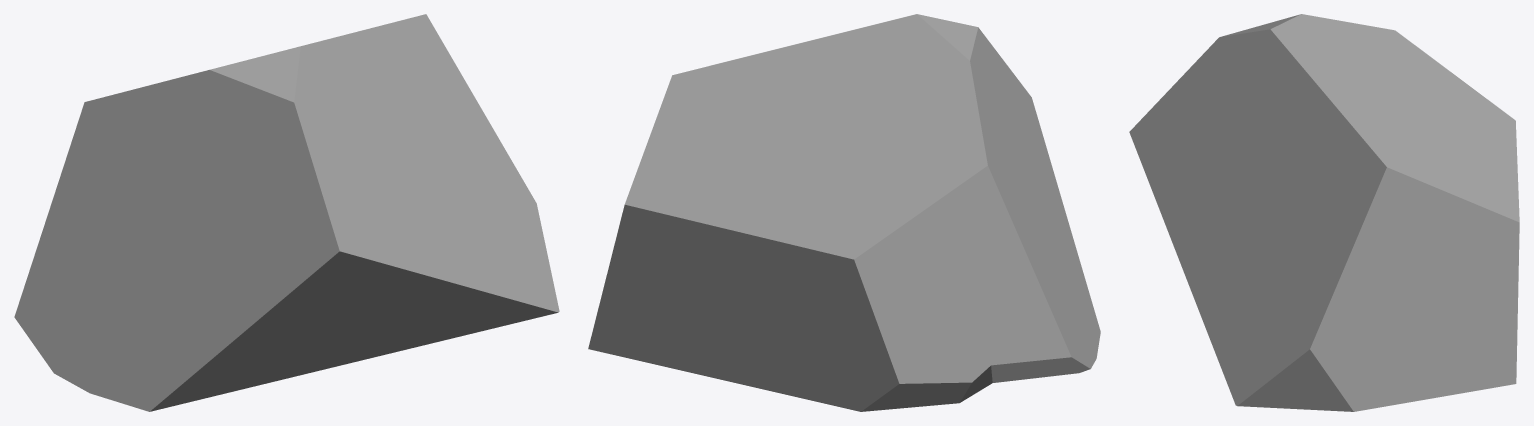
Rendered from HardRock_27.fbx.
3 renders of one model, left to right at view 1: azimuth 30°, elevation 25°; view 2: azimuth 150°, elevation 25°; view 3: azimuth 270°, elevation 25°, orthographic. The views are drawn at different scales.
Visible parts, largest first — view 1: HardRock_27; view 2: HardRock_27; view 3: HardRock_27.
Part boxes in pixels (x1,y1,x2,y2): HardRock_27: [14, 14, 559, 411]; HardRock_27: [588, 14, 1100, 411]; HardRock_27: [1129, 14, 1519, 411].
Bounding box in the file's own units: 207 × 126 × 163.
